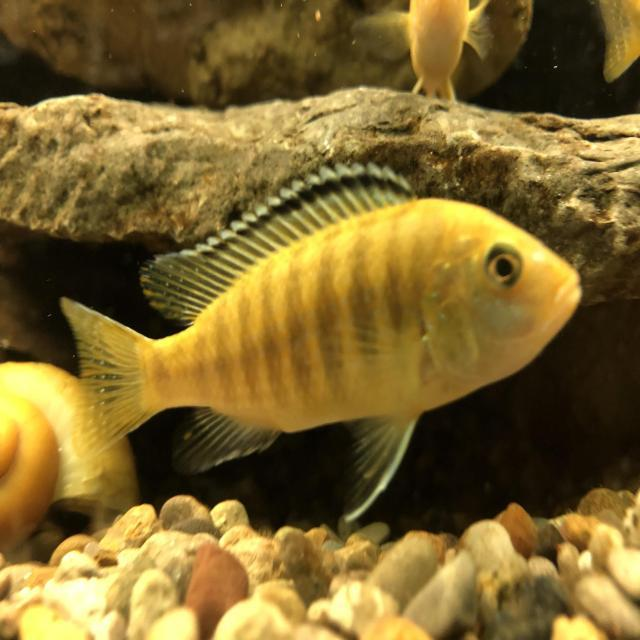YellowCichlid: (71, 163, 582, 478)
